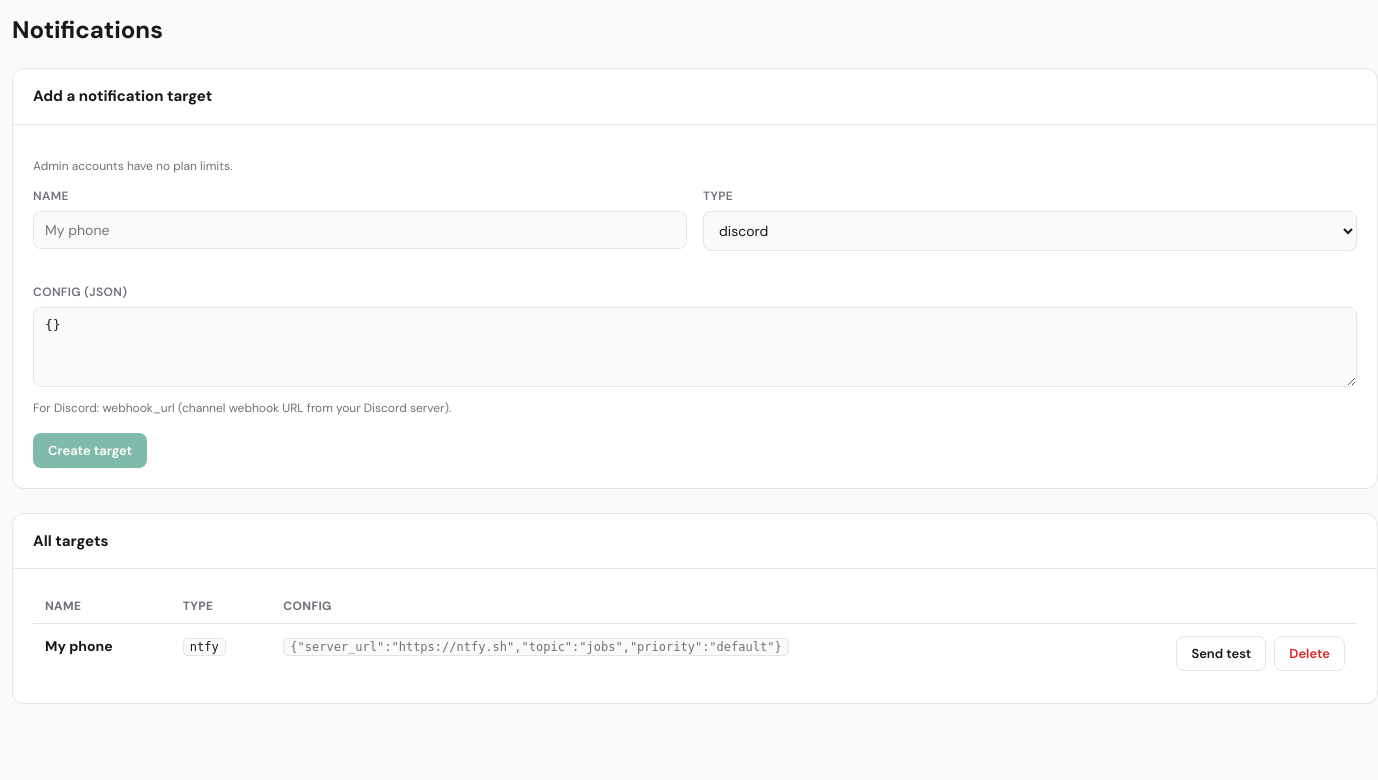
Test case: TargetsPage branch coverage › surfaces the thrown error when the test request rejects
Check: the text "My phone" is shown, box x1=45 y1=637 x2=113 y2=655
Click the button "Send test" at (1221, 654), box x1=1176 y1=636 x2=1266 y2=671
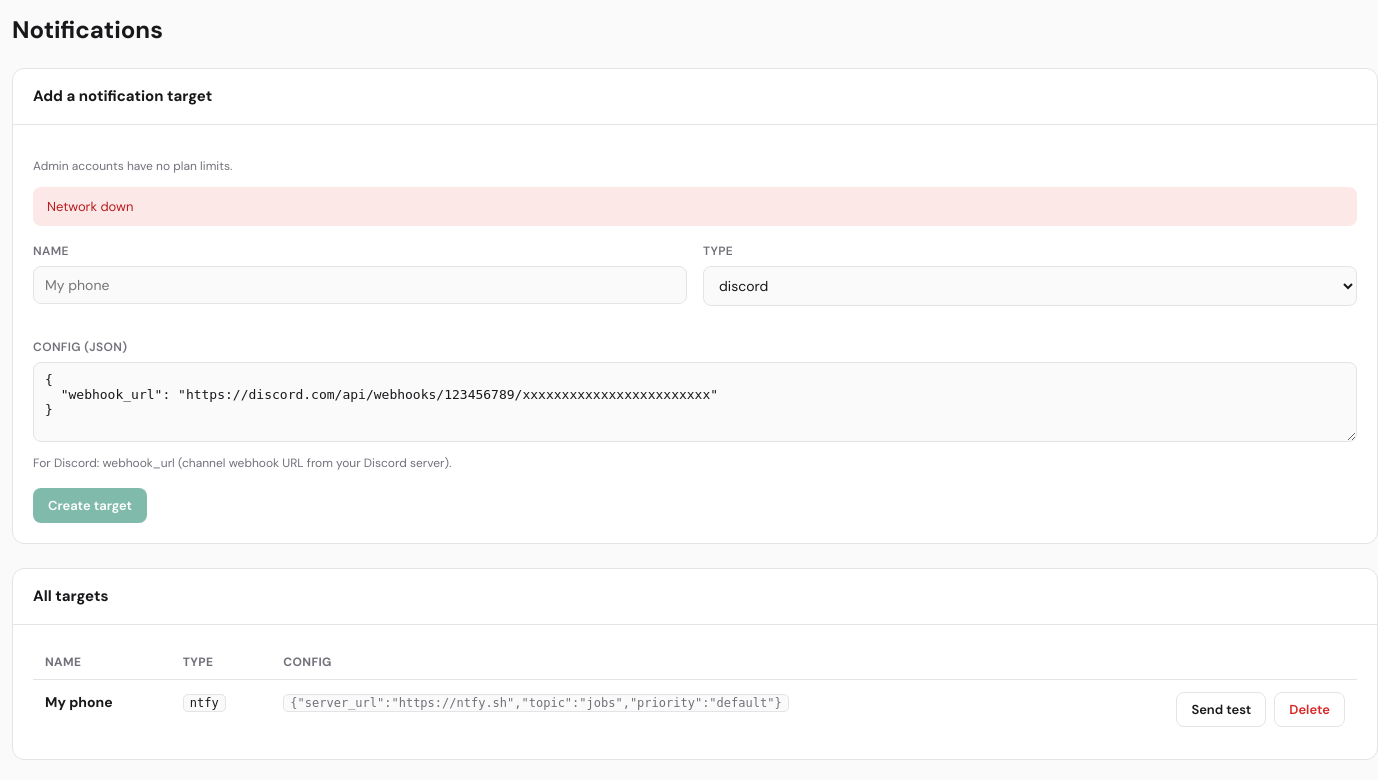
Check: the text "Network down" is shown, box x1=33 y1=186 x2=1357 y2=226
